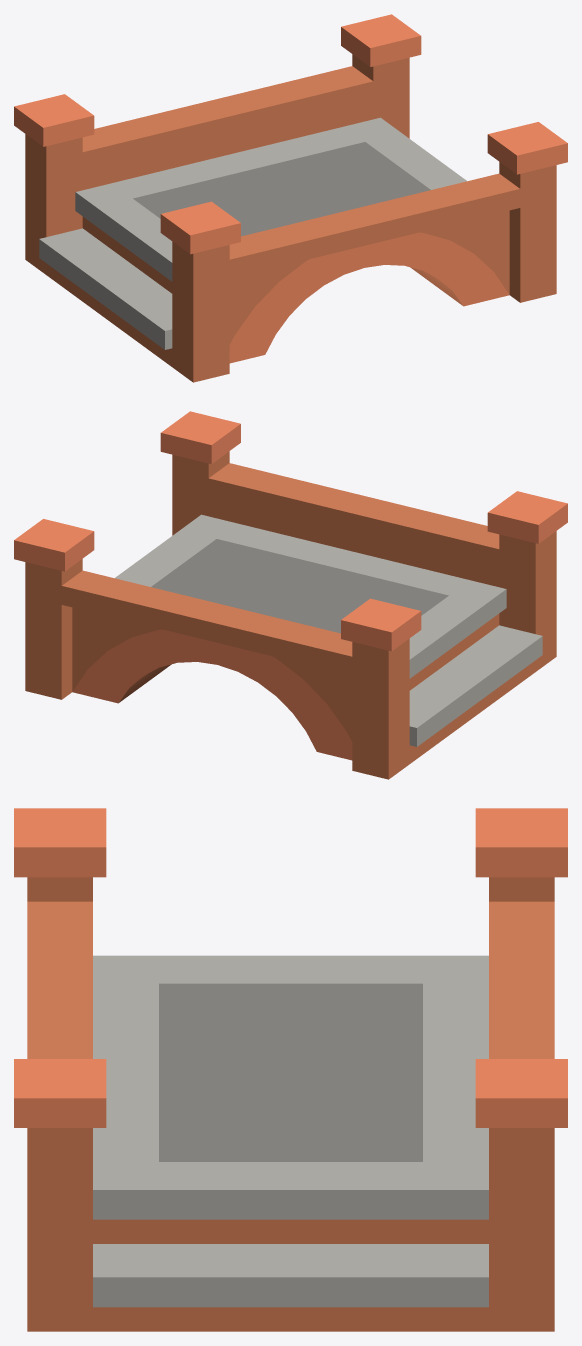
Rendered from bridge_woodRoundNarrow.glb.
3 renders of one model, top to bottom at view 1: azimuth 30°, elevation 25°; view 2: azimuth 150°, elevation 25°; view 3: azimuth 270°, elevation 25°, orthographic. The views are drawn at different scales.
Visible parts, largest first — view 1: bridge_woodRoundNarrow; view 2: bridge_woodRoundNarrow; view 3: bridge_woodRoundNarrow.
Boxes of the visible parts, bbox=[...] form: bridge_woodRoundNarrow: bbox=[14, 14, 567, 382]; bridge_woodRoundNarrow: bbox=[14, 411, 567, 779]; bridge_woodRoundNarrow: bbox=[14, 808, 567, 1331].
Size of the model in its own units: 1.04 by 0.4 by 0.84.
